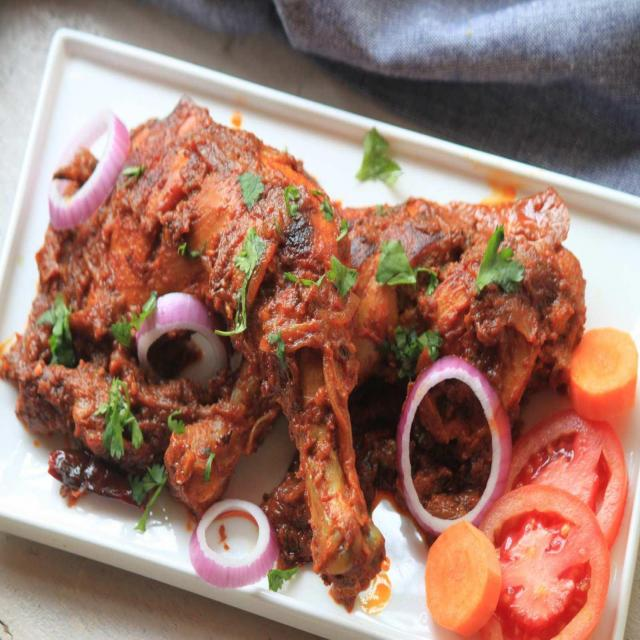chicken: (0, 95, 584, 578)
